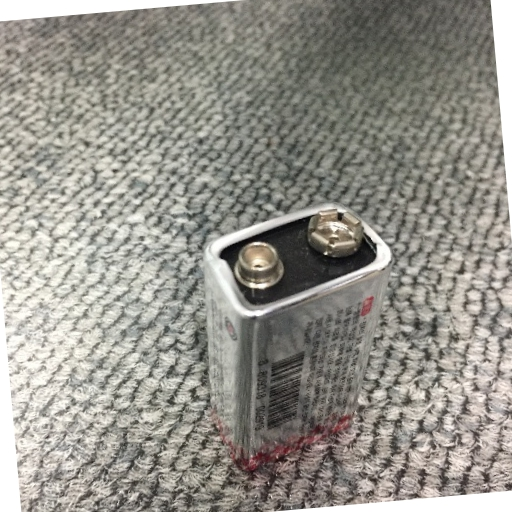Battery_3: (190, 191, 393, 476)
